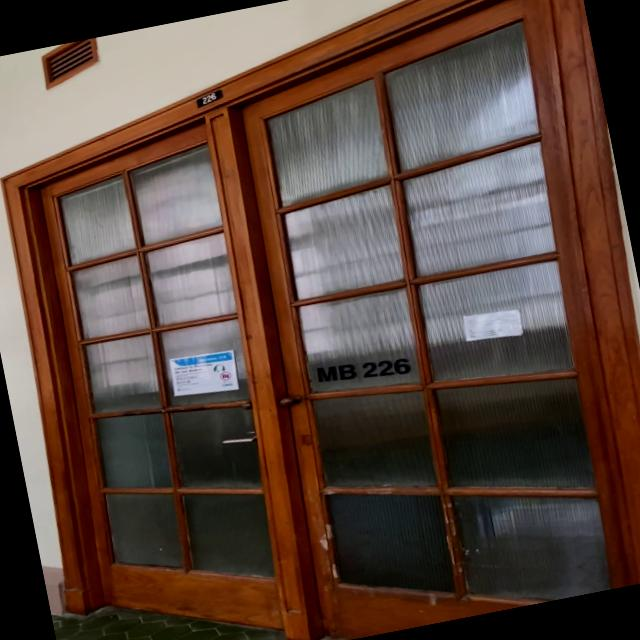room226: (195, 86, 228, 108)
room226Window: (310, 346, 412, 394)
